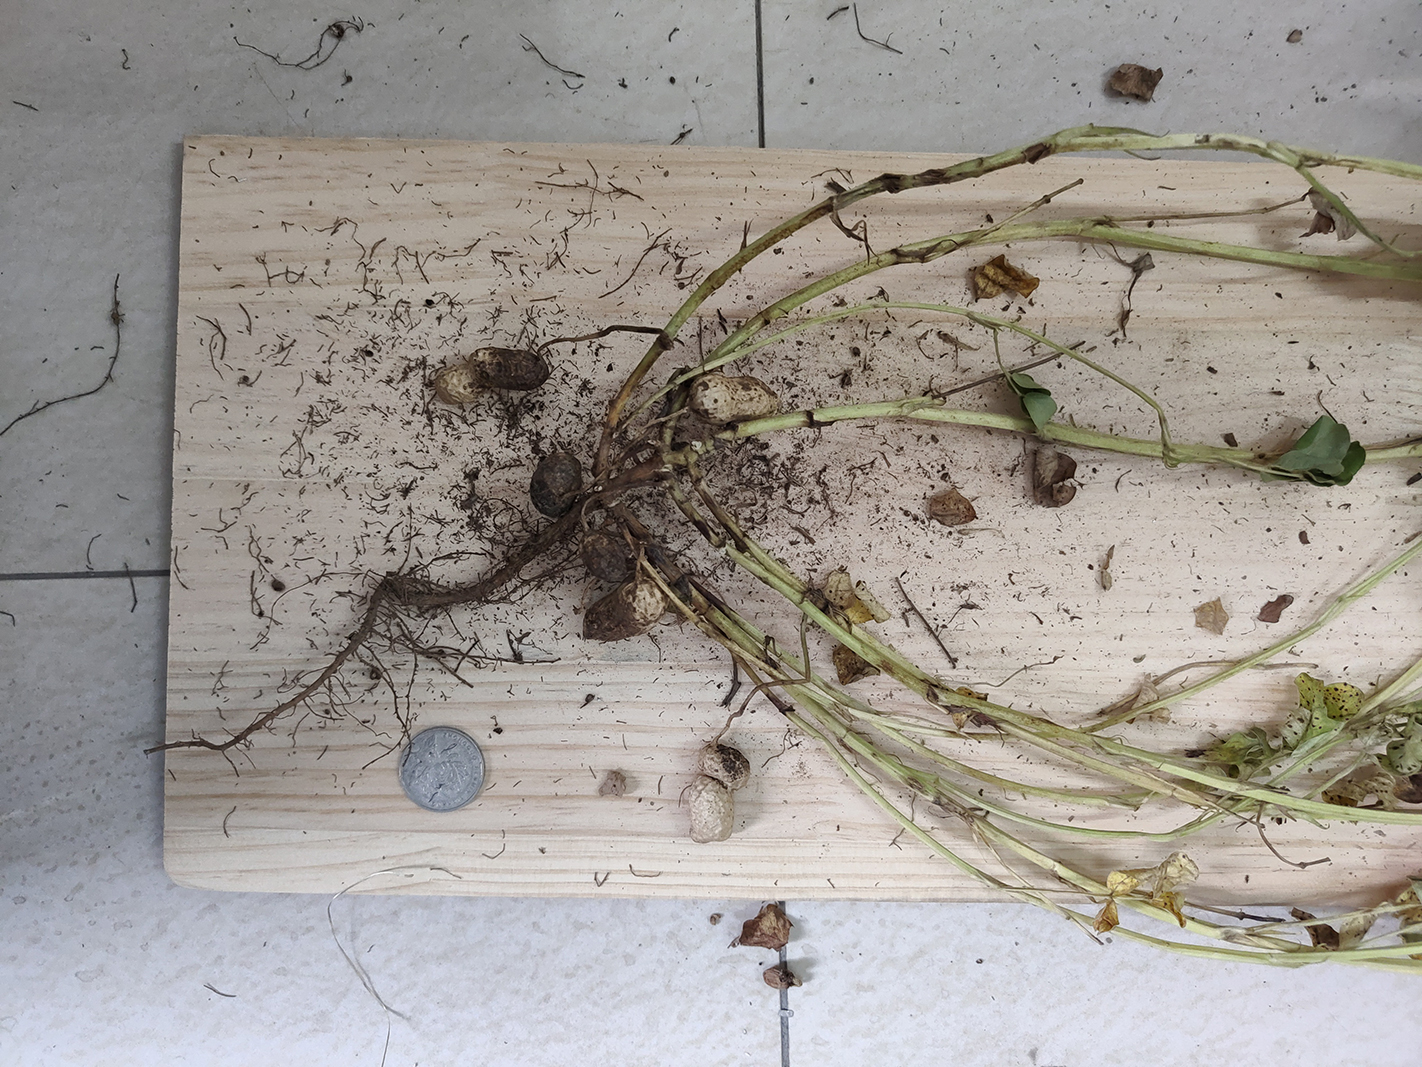h: (690, 373, 778, 423)
l: (682, 745, 751, 843), (435, 349, 548, 403), (580, 579, 668, 644), (530, 453, 583, 517), (582, 533, 629, 582)
